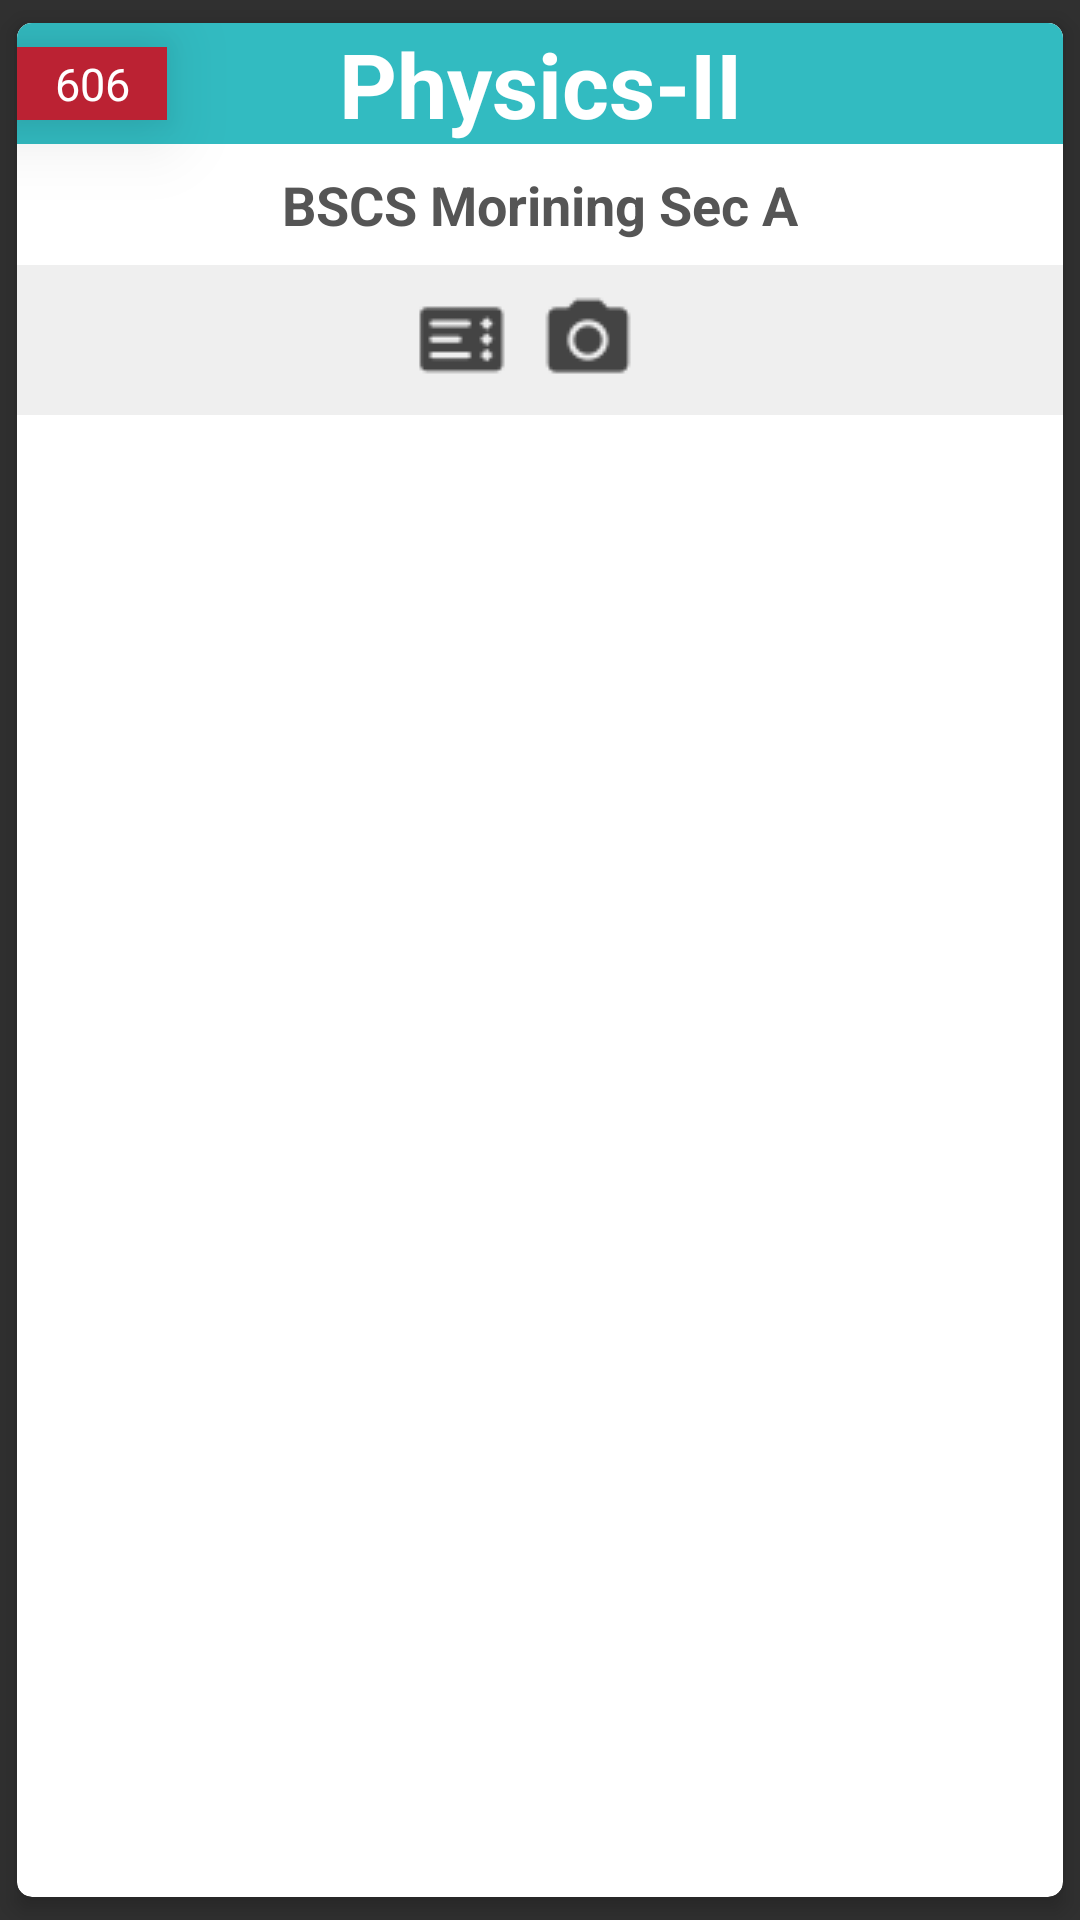

Locate icon controls on the screen. Image size 1080px×1920px, boxes as {"x1": x1, "y1": y1, "x2": x2, "y2": y2}.
camera: {"x1": 546, "y1": 298, "x2": 630, "y2": 374}
report: {"x1": 419, "y1": 306, "x2": 505, "y2": 373}
